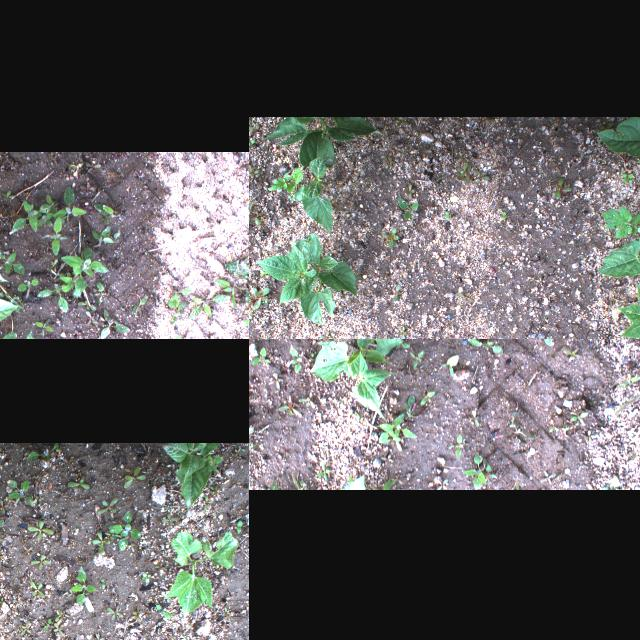crop: (255, 232, 358, 324), (310, 339, 402, 420), (162, 532, 238, 614), (262, 117, 378, 165), (160, 442, 220, 508), (286, 158, 334, 235), (597, 228, 640, 296), (596, 117, 640, 173), (616, 283, 640, 339), (340, 474, 364, 490)
weed: (223, 208, 249, 336), (61, 248, 107, 294), (106, 510, 140, 552), (600, 205, 640, 238), (68, 564, 98, 606), (52, 186, 84, 222), (187, 296, 229, 320), (8, 200, 38, 233), (42, 218, 68, 256), (214, 278, 246, 308), (463, 450, 487, 490), (36, 284, 70, 312), (166, 289, 192, 325), (99, 309, 130, 339), (268, 168, 304, 192), (6, 479, 34, 506), (378, 413, 404, 442), (26, 443, 60, 461), (249, 287, 270, 314), (26, 520, 54, 540), (466, 339, 503, 354), (397, 196, 419, 220), (551, 177, 573, 201), (122, 466, 146, 488), (91, 225, 121, 242), (376, 433, 402, 452), (278, 397, 300, 419), (0, 252, 23, 273), (93, 202, 117, 222), (90, 530, 110, 554), (288, 344, 302, 374), (251, 346, 271, 366), (380, 226, 398, 248), (441, 356, 459, 378), (15, 277, 39, 293), (38, 194, 58, 213), (60, 276, 78, 296), (32, 319, 54, 335), (456, 161, 472, 183), (131, 294, 147, 314), (7, 292, 23, 312), (470, 168, 490, 184), (30, 554, 50, 570), (408, 350, 424, 370), (96, 498, 118, 512), (402, 394, 416, 416), (249, 201, 260, 228), (66, 478, 90, 490), (28, 580, 44, 598), (562, 346, 580, 362), (202, 456, 222, 470), (268, 370, 282, 390), (454, 434, 464, 461), (105, 606, 124, 620), (394, 426, 416, 438), (94, 280, 104, 306), (290, 474, 306, 490), (160, 512, 178, 526), (569, 412, 587, 426), (315, 463, 329, 481), (618, 377, 640, 388), (296, 397, 316, 409), (602, 476, 620, 489), (130, 606, 144, 622), (156, 604, 170, 620), (1, 188, 16, 202), (15, 331, 41, 339), (76, 300, 96, 310), (391, 283, 401, 303), (563, 420, 577, 434), (420, 392, 434, 406), (249, 162, 261, 178), (19, 620, 31, 636), (52, 622, 64, 638), (540, 472, 556, 484), (404, 182, 414, 200), (456, 292, 474, 302), (469, 410, 479, 428), (201, 494, 211, 511), (486, 464, 496, 480), (382, 480, 398, 490), (242, 309, 249, 330), (532, 339, 553, 346), (62, 457, 74, 469), (140, 572, 152, 584), (397, 325, 407, 339), (153, 562, 167, 572), (396, 339, 410, 349), (441, 210, 452, 222), (436, 478, 448, 489), (234, 518, 242, 534), (50, 258, 59, 272), (40, 215, 50, 227), (622, 172, 632, 184), (42, 619, 52, 631), (85, 160, 98, 168), (0, 500, 6, 517), (68, 162, 84, 168), (249, 120, 259, 129), (234, 448, 244, 456), (210, 485, 218, 495), (58, 611, 68, 619), (269, 480, 277, 490), (174, 333, 187, 339), (586, 431, 592, 444), (93, 633, 104, 640), (500, 210, 506, 220), (548, 426, 558, 432), (249, 138, 255, 146), (65, 637, 81, 640), (0, 552, 3, 566), (100, 578, 104, 588), (168, 637, 181, 640), (514, 482, 518, 490)
